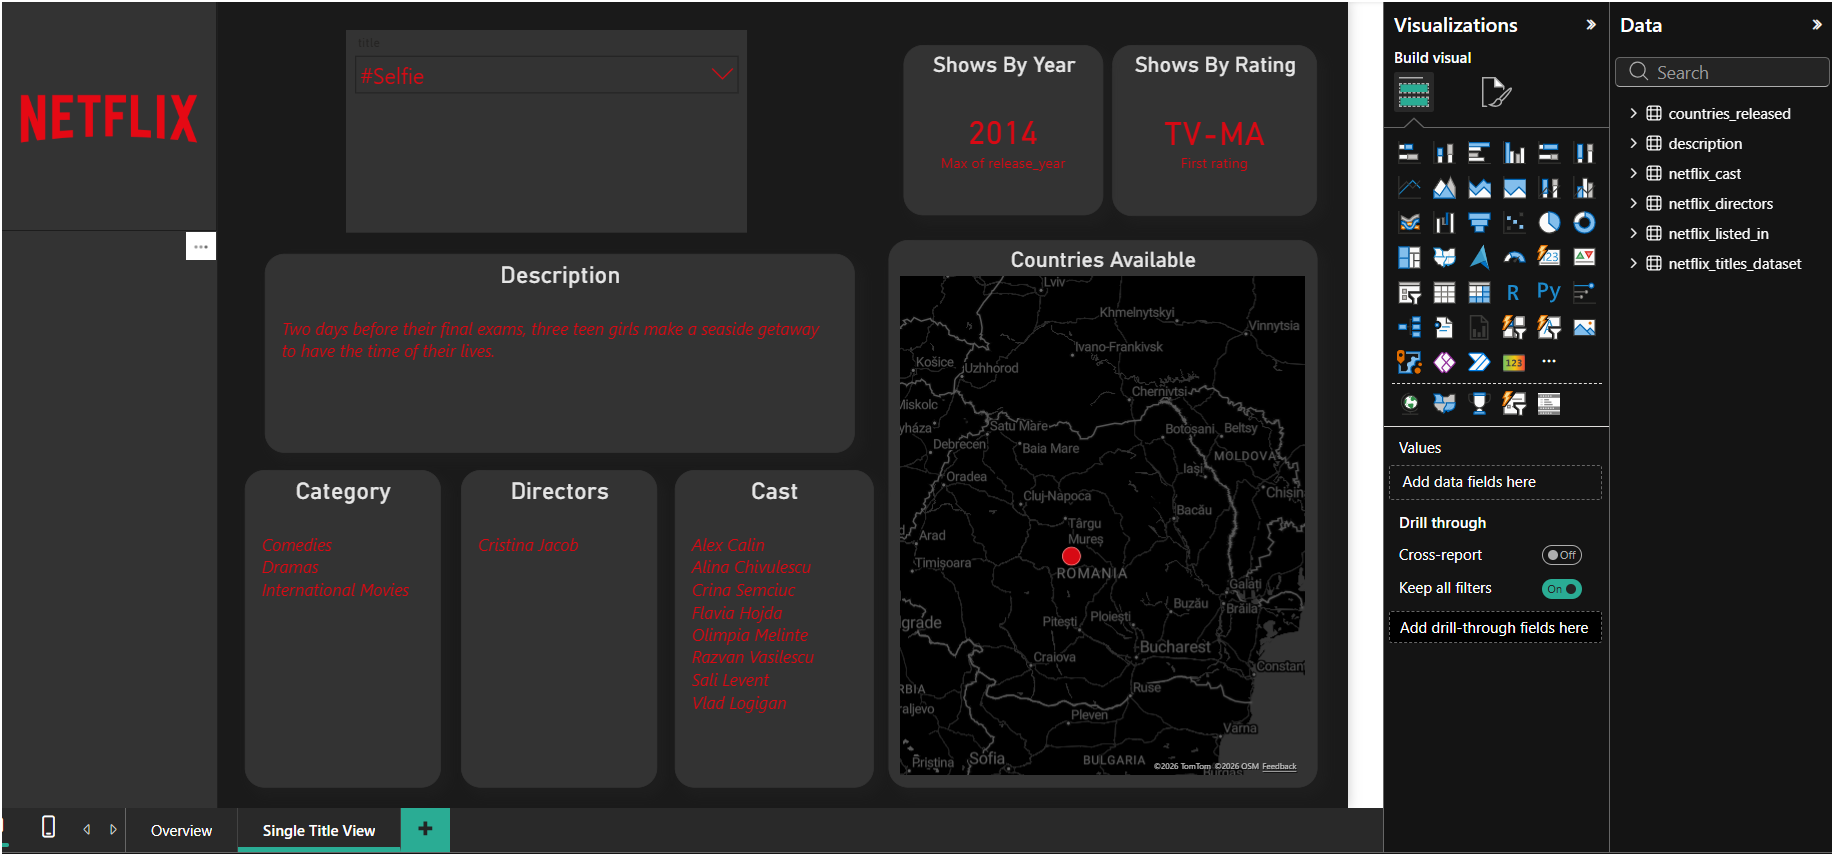

The page's visual inventory and layout, read from the dashboard file:
{"tool":"powerbi","page":{"name":"Single Title View","canvas":[1500,900],"ordinal":1},"visuals":[{"type":"shape","box":[0,0,240.7,900.3],"z":0},{"type":"PBI_CV_7B952816_A48F_49B4_9E13_15E3BB2C0337","title":"Shows By Rating","fields":{"Values":["Min(netflix_titles_dataset.rating)"]},"box":[1237,50.1,228.2,190.6],"z":1000},{"type":"azureMap","title":"Countries Available","fields":{"Category":["countries_released.country"],"Size":["CountNonNull(countries_released.show_id)"]},"box":[987.9,267.2,477.3,609.5],"z":2000},{"type":"image","box":[0,0,240.7,257.4],"z":3000},{"type":"PBI_CV_7B952816_A48F_49B4_9E13_15E3BB2C0337","title":"Shows By Year","fields":{"Values":["Max(netflix_titles_dataset.release_year)"]},"box":[1004.6,50.1,222.6,189.2],"z":4000},{"type":"slicer","fields":{"Values":["netflix_titles_dataset.title"]},"box":[384,33.4,446.7,225.4],"z":5000},{"type":"tableEx","title":"Cast","fields":{"Values":["netflix_cast.cast"]},"box":[750,523.2,221.2,353.4],"z":6000},{"type":"tableEx","title":"Directors","fields":{"Values":["netflix_directors.director"]},"box":[512.1,523.2,218.5,353.4],"z":7000},{"type":"tableEx","title":"Category","fields":{"Values":["netflix_listed_in.category"]},"box":[271.3,523.2,218.5,353.4],"z":8000},{"type":"tableEx","title":"Description","fields":{"Values":["description.description"]},"box":[293.6,282.5,656.8,221.2],"z":9000}]}

Visuals, with their boxes on the page's 1500x900 design canvas (x1, y1, x2, y2). These are canvas units, not pixel positions in the 1834x856 screenshot, which may show the page scaled, cropped or inside an application window:
shape: x1=0 y1=0 x2=241 y2=900
"Shows By Rating" PBI_CV_7B952816_A48F_49B4_9E13_15E3BB2C0337: x1=1237 y1=50 x2=1465 y2=241
"Countries Available" azureMap: x1=988 y1=267 x2=1465 y2=877
image: x1=0 y1=0 x2=241 y2=257
"Shows By Year" PBI_CV_7B952816_A48F_49B4_9E13_15E3BB2C0337: x1=1005 y1=50 x2=1227 y2=239
slicer - netflix_titles_dataset.title: x1=384 y1=33 x2=831 y2=259
"Cast" tableEx: x1=750 y1=523 x2=971 y2=877
"Directors" tableEx: x1=512 y1=523 x2=731 y2=877
"Category" tableEx: x1=271 y1=523 x2=490 y2=877
"Description" tableEx: x1=294 y1=282 x2=950 y2=504
